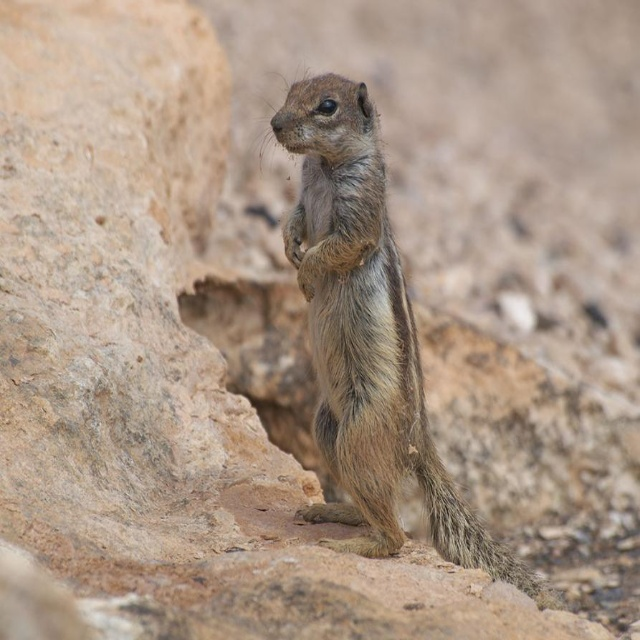Squirrel: (250, 60, 570, 611)
